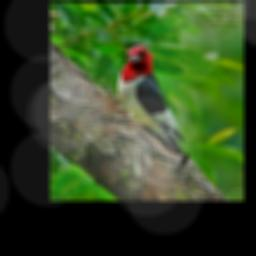Woodpecker: (105, 44, 189, 155)
